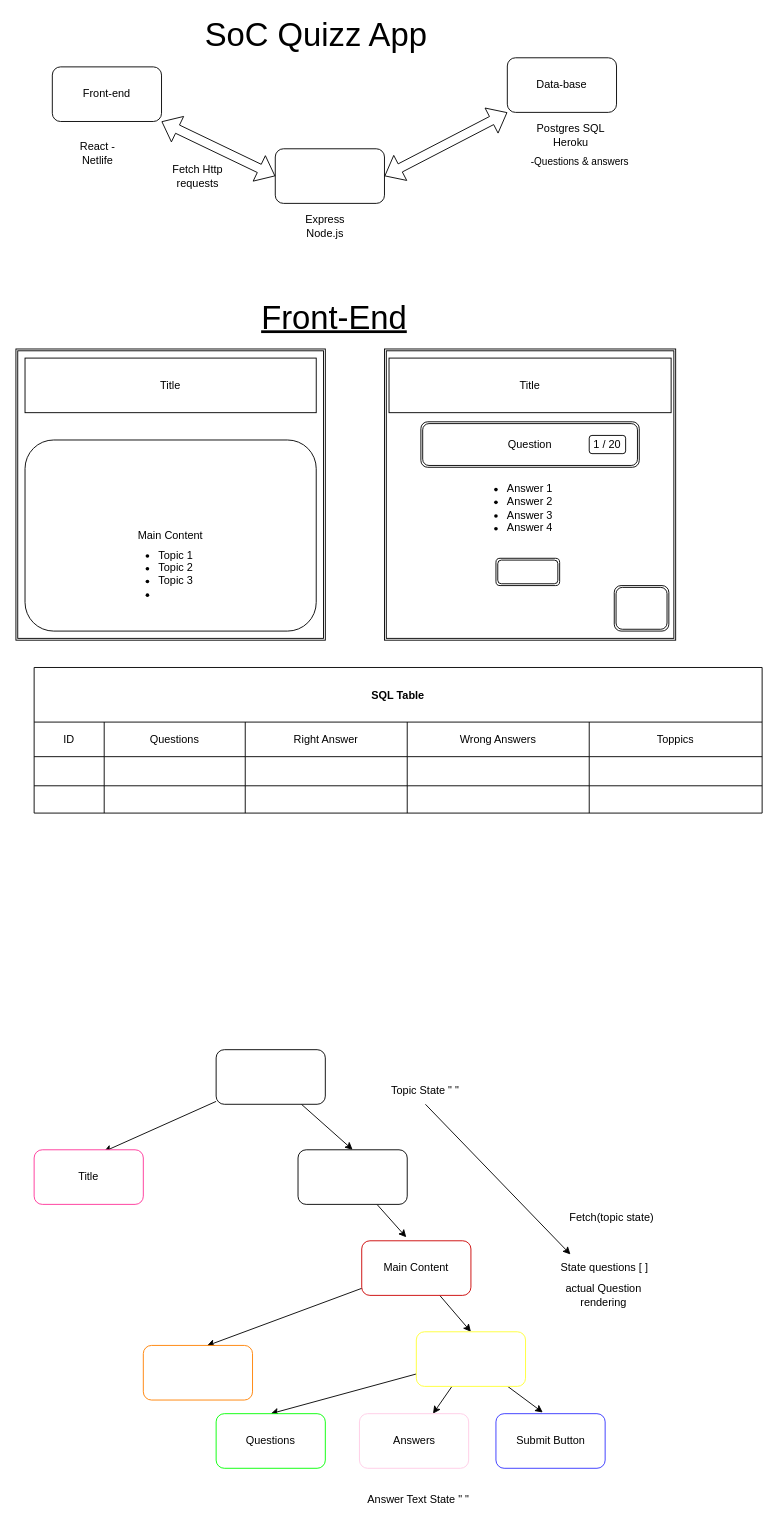
This 778x1530 diagram has some shape labels left out. Here are the shapes that lost their labels. From the top down, the centre of each, then its label:
(x=329, y=175): API rest
(x=527, y=571): Submit
(x=641, y=608): Next Question
(x=270, y=1076): App
(x=352, y=1176): Introduction
(x=197, y=1372): Nex Question
(x=470, y=1358): Quiz
